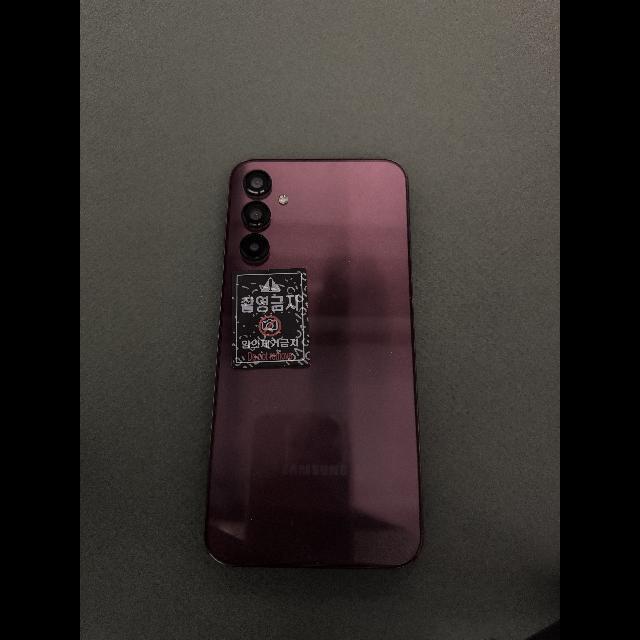lens: (241, 234, 269, 261), (243, 202, 270, 227), (245, 171, 271, 196)
phone: (205, 159, 423, 569)
sticker: (231, 269, 310, 369)
